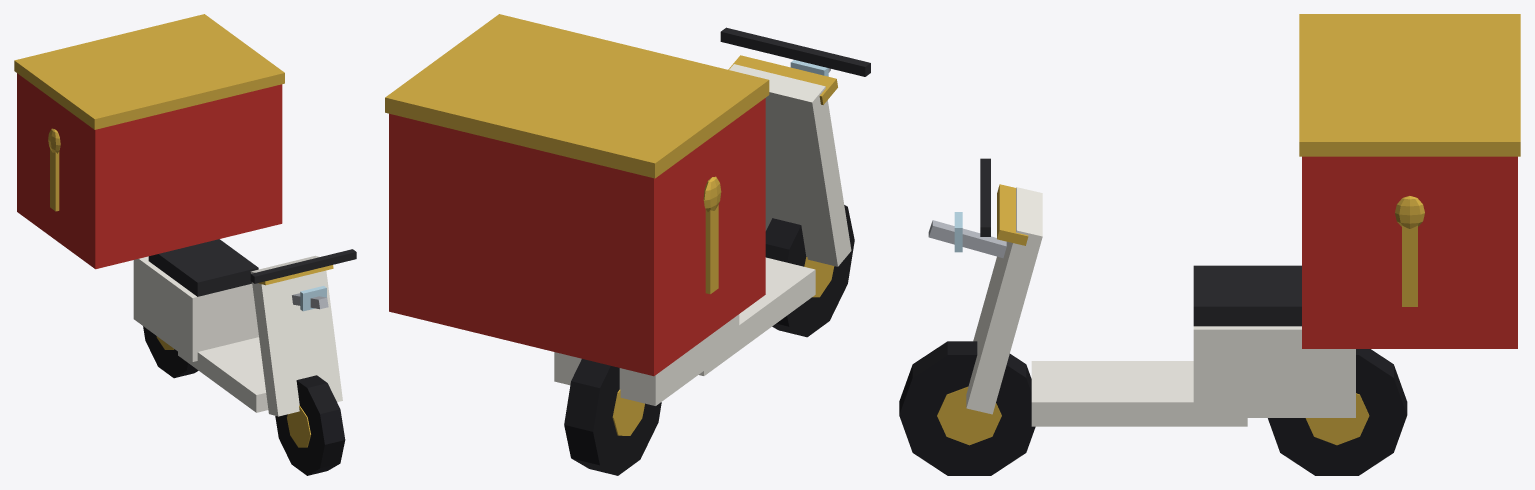
The model's file is pizza_scooter.glb.
3 views of the same model, side by side, from view 1: azimuth 30°, elevation 25°; view 2: azimuth 150°, elevation 25°; view 3: azimuth 270°, elevation 25° (orthographic). The views are drawn at different scales.
Visible parts, largest first — view 1: box_thermal_box_red, body_scooter_white, box_scooter_gold, wheels_tire, body_kitchen_black, spoon_scooter_gold, wheels_scooter_gold, lights_scooter_glass; view 2: box_thermal_box_red, box_scooter_gold, body_scooter_white, wheels_tire, body_kitchen_black, spoon_scooter_gold, wheels_scooter_gold, body_scooter_gold; view 3: box_thermal_box_red, body_scooter_white, box_scooter_gold, wheels_tire, body_kitchen_black, wheels_scooter_gold, spoon_scooter_gold, body_kitchen_steel, body_scooter_gold.
Boxes of the visible parts, x1,y1,x2,y2 form: box_thermal_box_red: [17, 73, 282, 269]; body_scooter_white: [133, 255, 342, 416]; box_scooter_gold: [14, 14, 284, 129]; wheels_tire: [143, 326, 345, 475]; body_kitchen_black: [148, 239, 356, 296]; spoon_scooter_gold: [48, 128, 60, 211]; wheels_scooter_gold: [156, 336, 310, 447]; lights_scooter_glass: [300, 286, 326, 311]; box_thermal_box_red: [389, 98, 765, 376]; box_scooter_gold: [385, 14, 769, 178]; body_scooter_white: [554, 64, 851, 405]; wheels_tire: [564, 205, 854, 475]; body_kitchen_black: [720, 27, 870, 76]; spoon_scooter_gold: [703, 176, 721, 294]; wheels_scooter_gold: [612, 257, 834, 435]; body_scooter_gold: [728, 55, 837, 104]; box_thermal_box_red: [1302, 156, 1517, 348]; body_scooter_white: [966, 187, 1355, 426]; box_scooter_gold: [1299, 14, 1520, 156]; wheels_tire: [899, 341, 1407, 475]; body_kitchen_black: [980, 158, 1301, 326]; wheels_scooter_gold: [937, 386, 1369, 445]; spoon_scooter_gold: [1395, 196, 1424, 306]; body_kitchen_steel: [928, 220, 1006, 258]; body_scooter_gold: [997, 184, 1028, 245].
Size of the model in its own units: 1.16 by 1.6 by 2.3.
